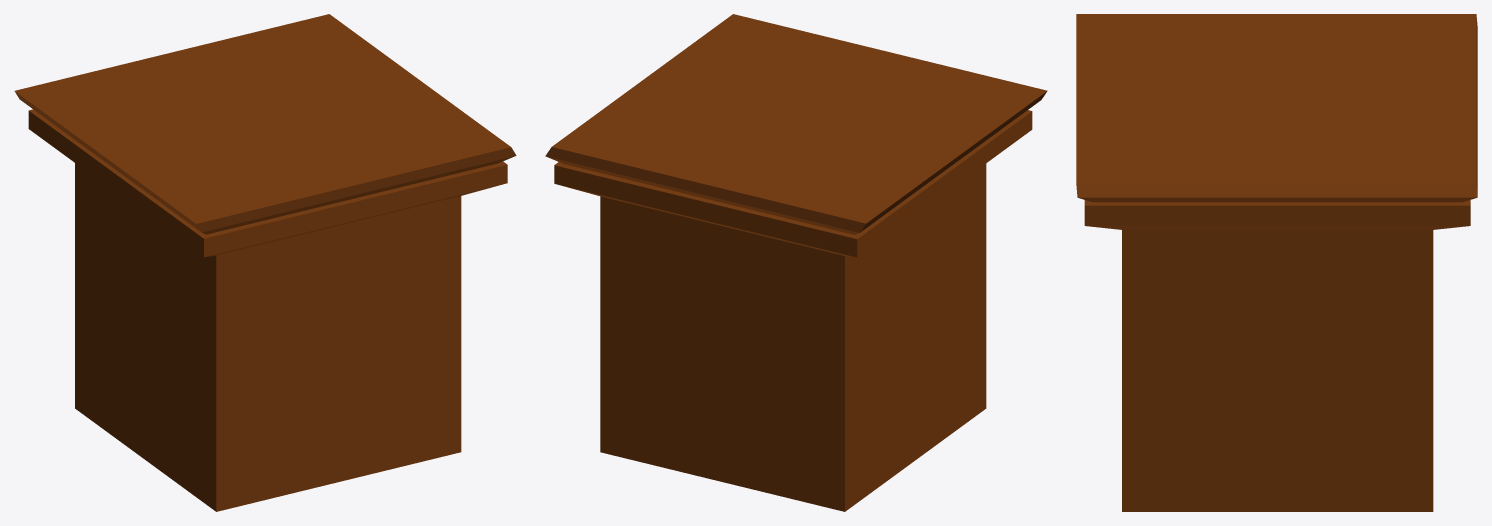
File: podium.dae
3 views of the same model, side by side, from view 1: azimuth 30°, elevation 25°; view 2: azimuth 150°, elevation 25°; view 3: azimuth 270°, elevation 25° (orthographic). The views are drawn at different scales.
Parts seen in each view (by area): view 1: Cube; view 2: Cube; view 3: Cube.
Boxes of the visible parts, x1,y1,x2,y2 form: Cube: (14, 14, 516, 511); Cube: (545, 14, 1047, 511); Cube: (1076, 14, 1477, 511).
Size of the model in its own units: 1.45 by 1.42 by 1.35.
